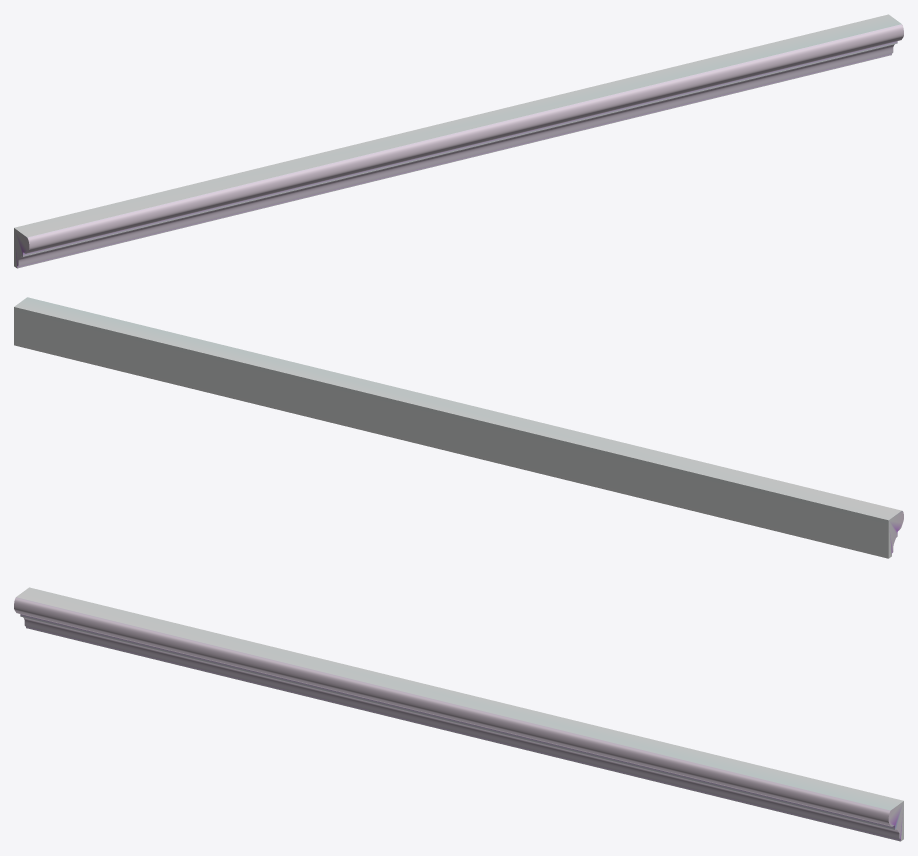
The picture shows the model from 3 angles, top to bottom: view 1: azimuth 30°, elevation 25°; view 2: azimuth 150°, elevation 25°; view 3: azimuth 330°, elevation 25°; orthographic projection.
Parts seen in each view (by area): view 1: rail_section; view 2: rail_section; view 3: rail_section.
Part boxes in pixels (box(x1,y1,x2,y2)): rail_section: box(14, 14, 903, 268); rail_section: box(14, 297, 903, 558); rail_section: box(14, 587, 903, 841).
Bounding box in the file's own units: 1.2 × 0.0504 × 0.0363.
